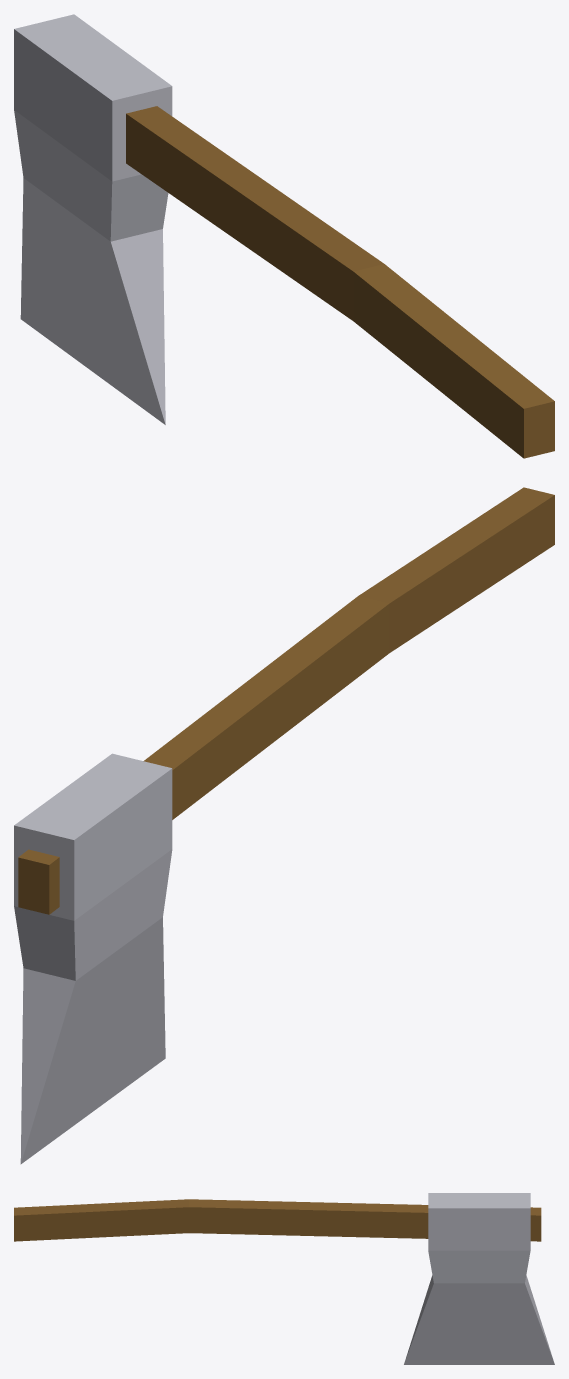
Rendered from axe.fbx.
3 renders of one model, top to bottom at view 1: azimuth 30°, elevation 25°; view 2: azimuth 150°, elevation 25°; view 3: azimuth 270°, elevation 25°, orthographic. The views are drawn at different scales.
Visible parts, largest first — view 1: axe; view 2: axe; view 3: axe.
Boxes of the visible parts, left/top/right/bottom form: axe: left=14, top=14, right=554, bottom=458; axe: left=14, top=487, right=554, bottom=1164; axe: left=14, top=1193, right=554, bottom=1364.
Bounding box in the file's own units: 13.13 × 65.58 × 196.
